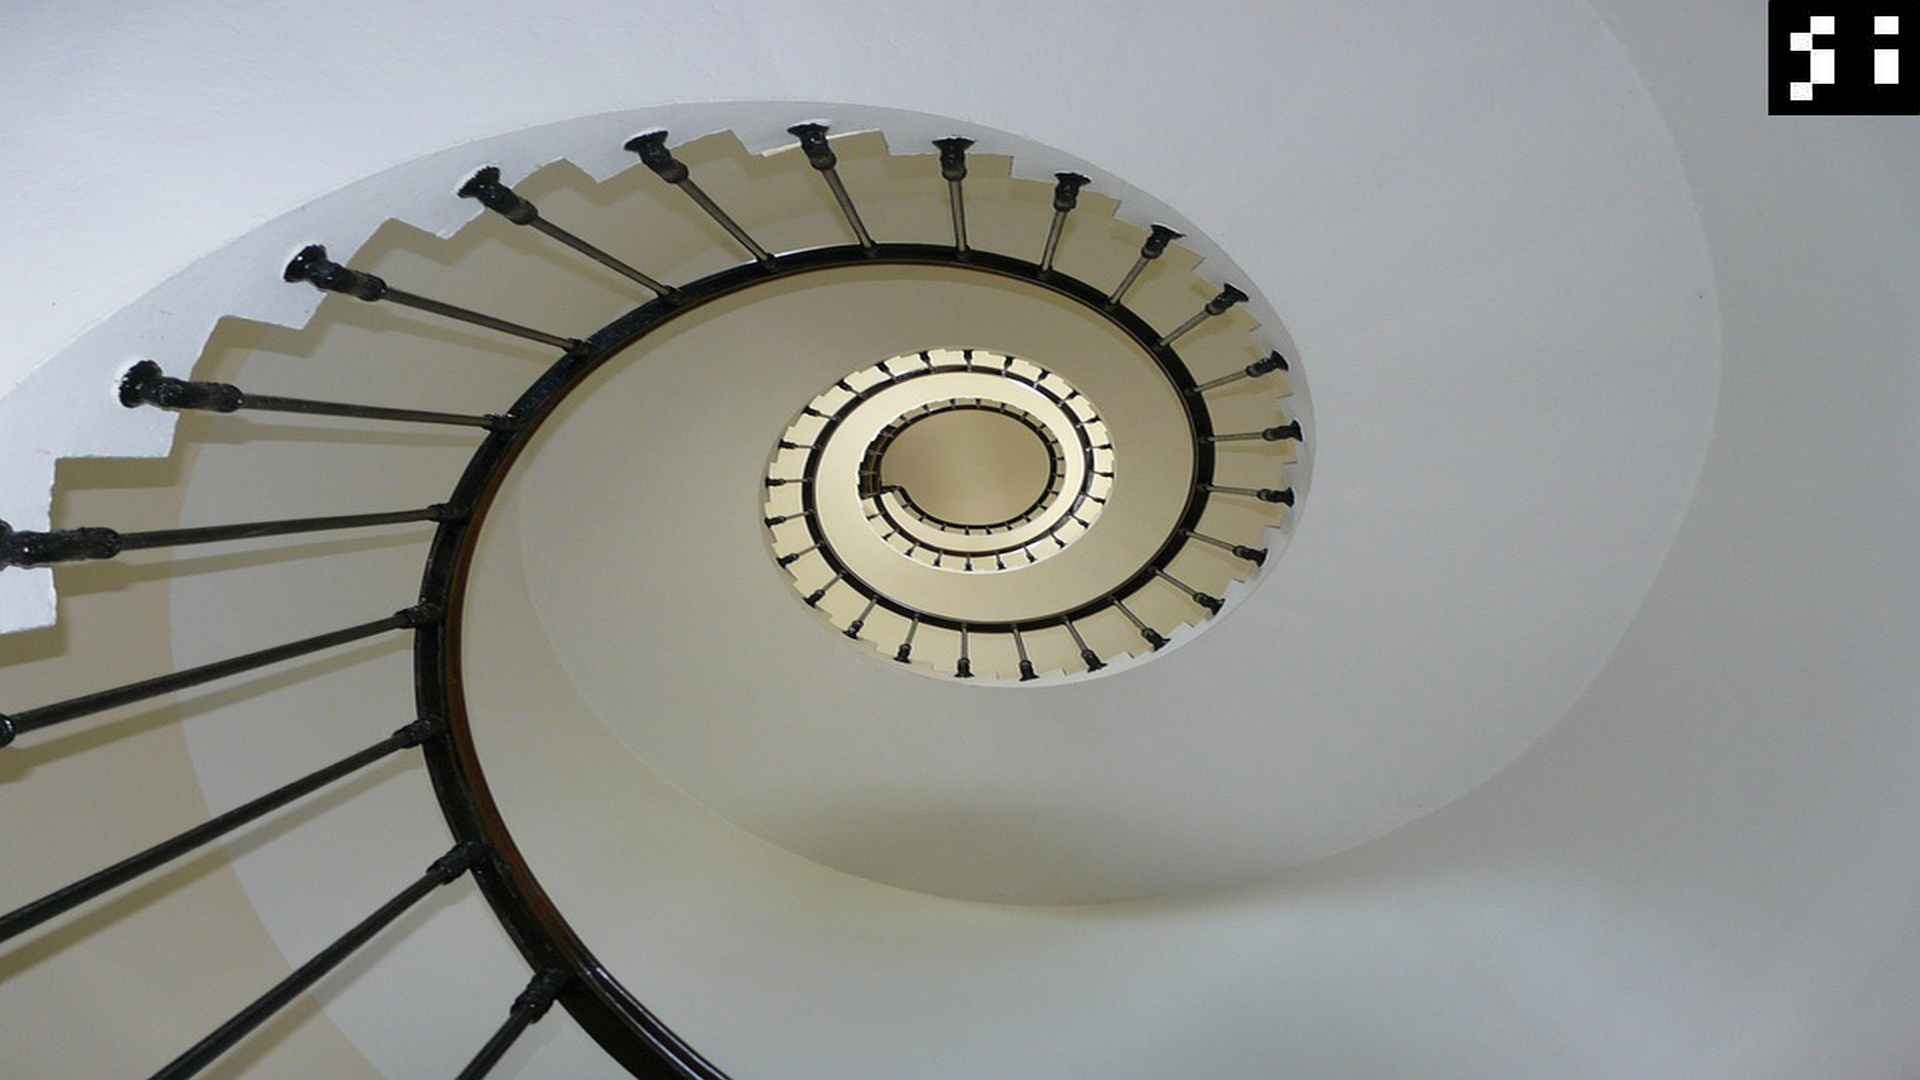marker: (1766, 1, 1920, 119)
